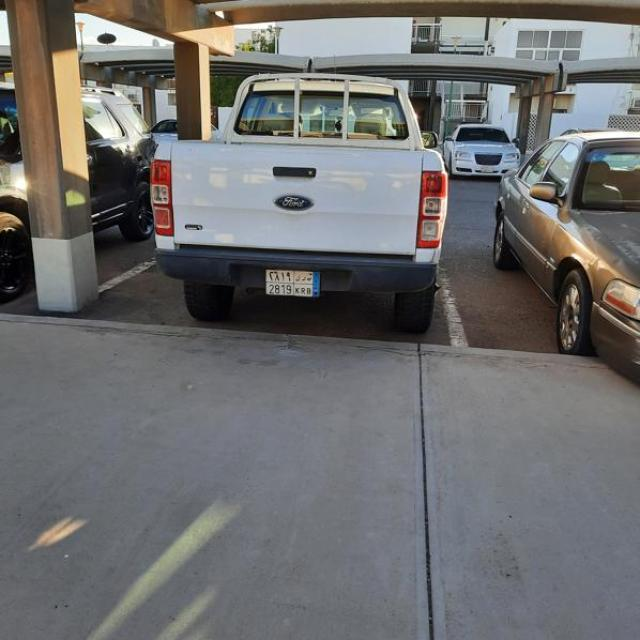license_plate: (266, 269, 320, 298), (481, 166, 494, 173)
